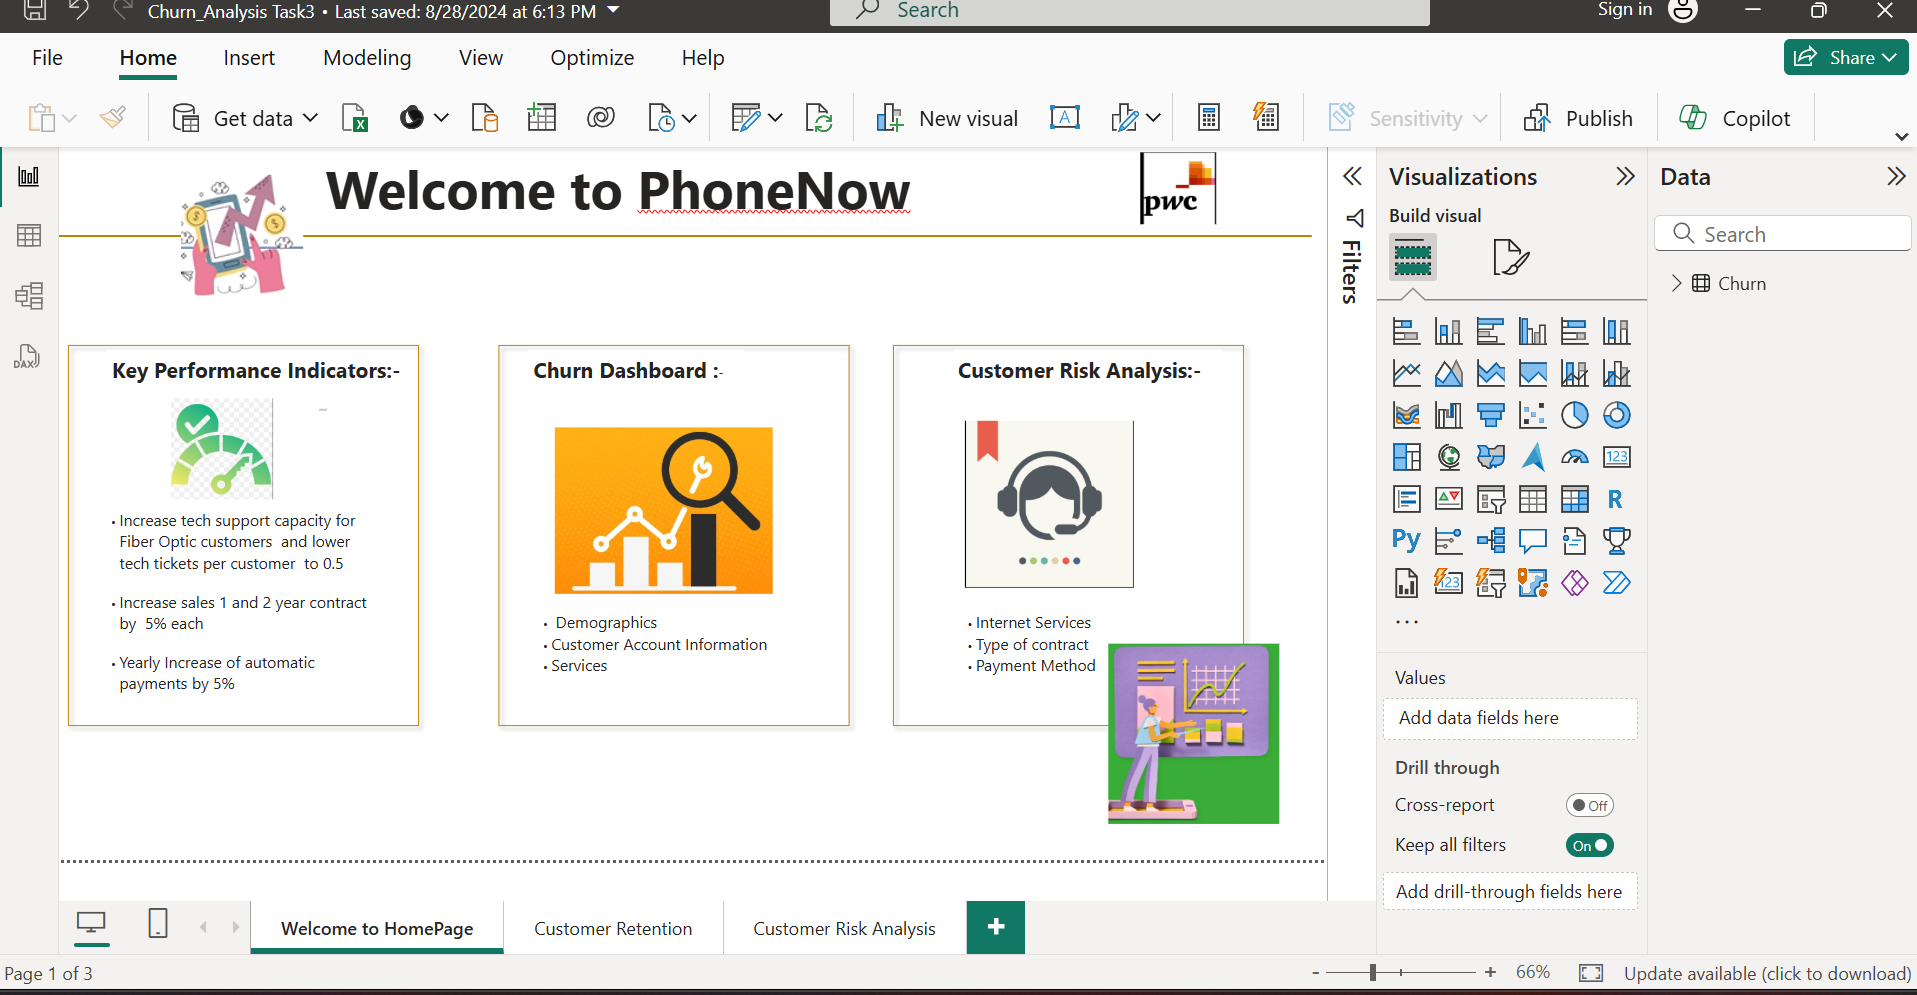

What the dashboard file says about the page in this screenshot:
{"tool":"powerbi","page":{"name":"Page 1","canvas":[1280,720],"ordinal":0},"visuals":[{"type":"textbox","box":[0,0,549.9,83.2],"z":0},{"type":"textbox","box":[345,0,611.3,83],"z":1},{"type":"shape","box":[0,83,1264.9,13.1],"z":2},{"type":"shape","box":[0,190.8,372.5,402.8],"z":3},{"type":"shape","box":[434.6,190.8,372.5,402.8],"z":4},{"type":"shape","box":[832.8,190.8,372.5,402.8],"z":5},{"type":"textbox","box":[48.5,204.4,311.9,43.9],"z":6},{"type":"textbox","box":[37.9,342.2,293.8,213.5],"z":7},{"type":"textbox","box":[99.9,258.9,175.6,12.1],"z":8},{"type":"textbox","box":[473.9,204.4,218,54.5],"z":9},{"type":"textbox","box":[473.9,463.3,277.1,92.4],"z":10},{"type":"textbox","box":[902.5,204.4,272.6,43.9],"z":11},{"type":"textbox","box":[902.5,463.3,231.7,92.4],"z":12},{"type":"image","box":[1084.2,0,90.9,83.3],"z":13},{"type":"image","box":[902.5,271,195.3,178.7],"z":14},{"type":"image","box":[495.1,271,230.2,192.3],"z":15},{"type":"image","box":[37.9,22.7,293.8,134.8],"z":16},{"type":"image","box":[1054.1,463.1,183,257.5],"z":17},{"type":"image","box":[68.1,248.3,192.3,112.1],"z":18}]}

Visuals, with their boxes on the page's 1280x720 design canvas (x1, y1, x2, y2). These are canvas units, not pixel positions in the 1917x995 screenshot, which may show the page scaled, cropped or inside an application window:
textbox: 0, 0, 550, 83
textbox: 345, 0, 956, 83
shape: 0, 83, 1265, 96
shape: 0, 191, 372, 594
shape: 435, 191, 807, 594
shape: 833, 191, 1205, 594
textbox: 48, 204, 360, 248
textbox: 38, 342, 332, 556
textbox: 100, 259, 276, 271
textbox: 474, 204, 692, 259
textbox: 474, 463, 751, 556
textbox: 902, 204, 1175, 248
textbox: 902, 463, 1134, 556
image: 1084, 0, 1175, 83
image: 902, 271, 1098, 450
image: 495, 271, 725, 463
image: 38, 23, 332, 158
image: 1054, 463, 1237, 721
image: 68, 248, 260, 360
